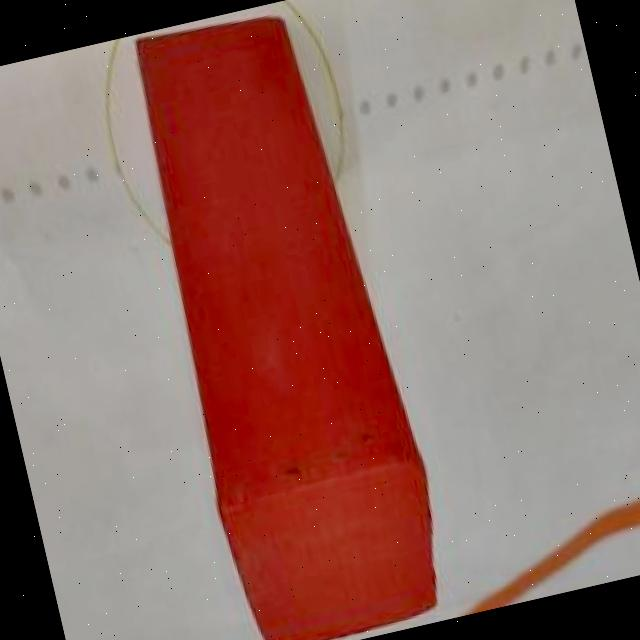redbox: (117, 2, 436, 640)
